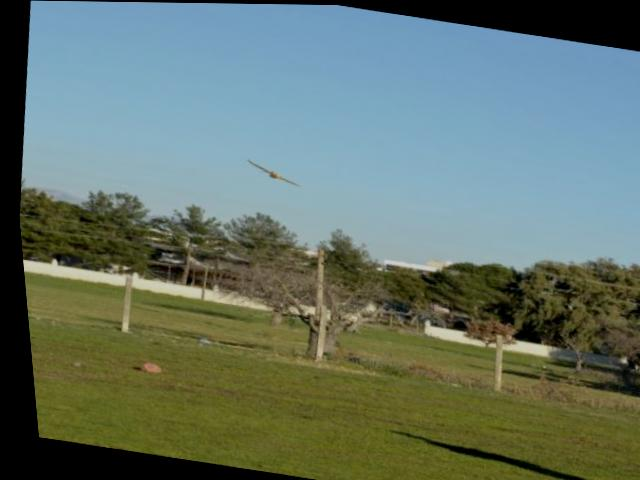iha: (241, 160, 298, 185)
